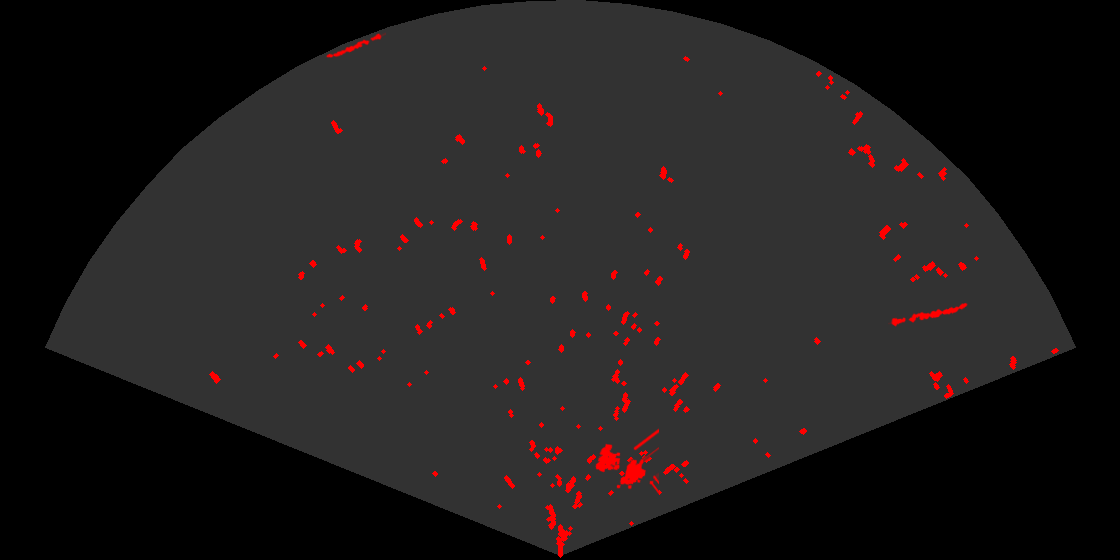cage: (594, 427, 659, 496)
chain: (888, 301, 970, 328), (324, 31, 386, 59)
